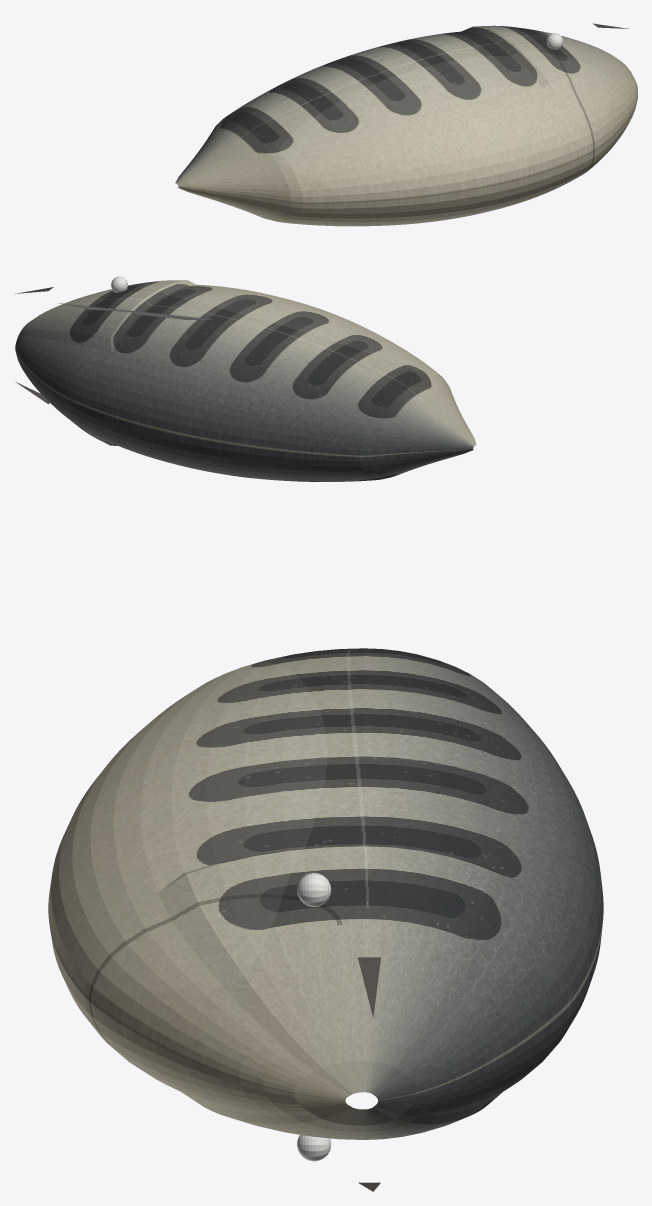
File: sheepshead_photoreal_style.glb
3 views of the same model, one above another, from view 1: azimuth 30°, elevation 25°; view 2: azimuth 150°, elevation 25°; view 3: azimuth 270°, elevation 25° (orthographic). The views are drawn at different scales.
Parts seen in each view (by area): view 1: body; view 2: body, pectoral_fin_1; view 3: body, world.
Boxes of the visible parts, left/top/right/bottom form: body: left=175, top=25, right=637, bottom=226; body: left=15, top=280, right=476, bottom=481; pectoral_fin_1: left=59, top=303, right=213, bottom=320; body: left=48, top=648, right=603, bottom=1139; world: left=297, top=873, right=331, bottom=1161.
Bounding box in the file's own units: 3.51 × 0.924 × 1.46.
1 material, 1 textured.
